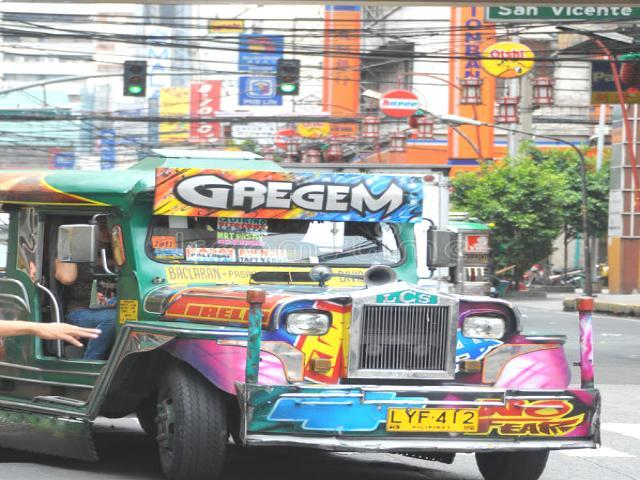jeepney: (0, 148, 625, 480)
